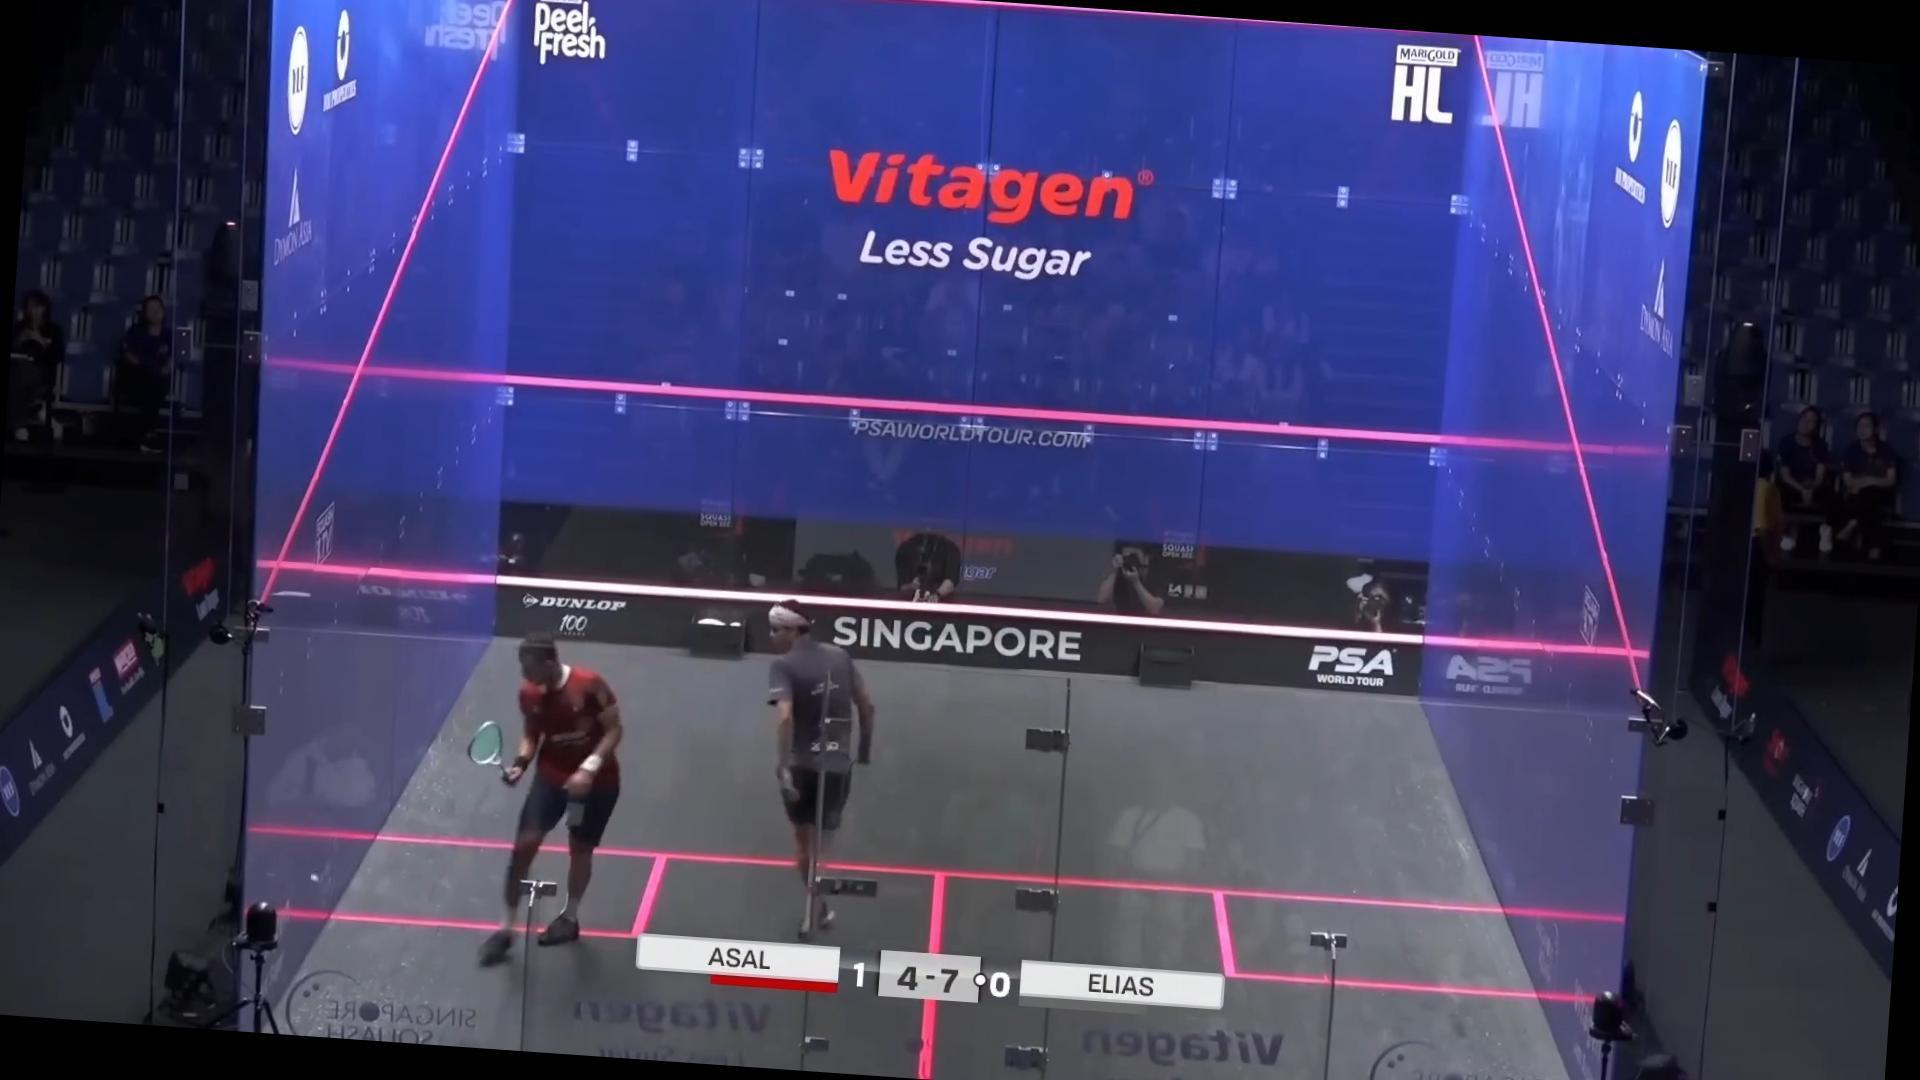Squash-Ball: (295, 853, 336, 903)
